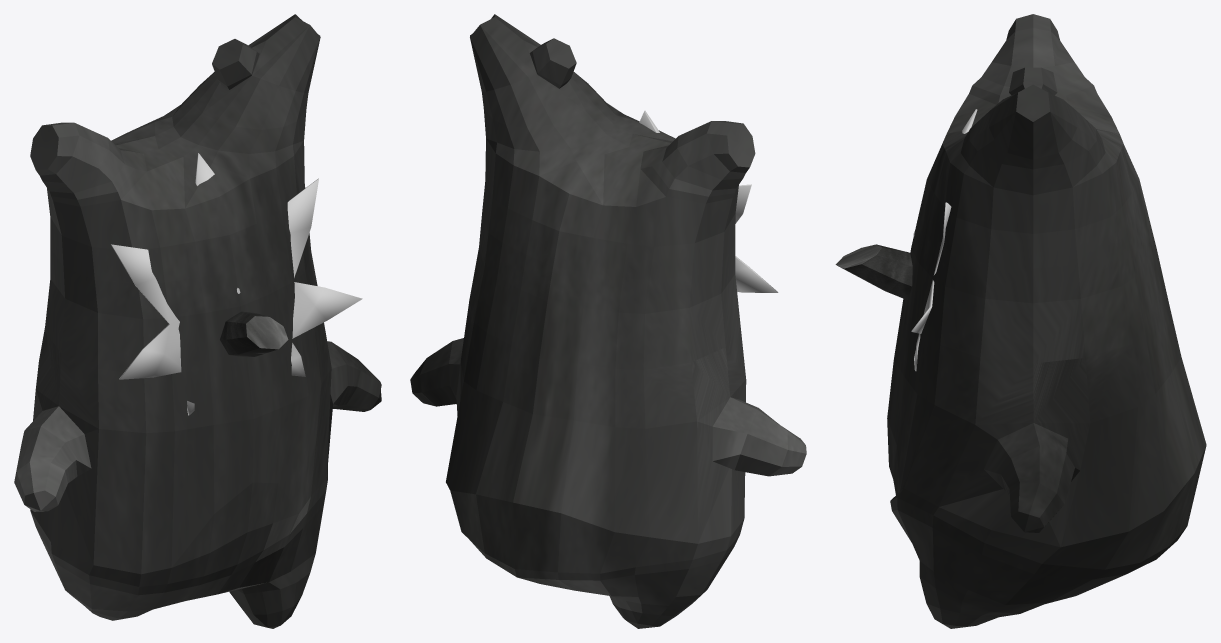
Rendered from frame_0001.obj.
3 views of the same model, side by side, from view 1: azimuth 30°, elevation 25°; view 2: azimuth 150°, elevation 25°; view 3: azimuth 270°, elevation 25° (orthographic). The views are drawn at different scales.
Parts seen in each view (by area): view 1: korok, leaf, nose.003_柱体.011; view 2: korok, leaf; view 3: korok, nose.003_柱体.011, leaf.
Boxes of the visible parts, box(x1,y1,x2,y2) form: korok: box(14, 14, 381, 628); leaf: box(111, 153, 362, 415); nose.003_柱体.011: box(220, 311, 288, 357); korok: box(410, 14, 806, 628); leaf: box(639, 110, 778, 292); korok: box(887, 14, 1206, 628); nose.003_柱体.011: box(835, 244, 912, 299); leaf: box(911, 109, 977, 371).
Size of the model in its own units: 1.62 by 2.34 by 1.37.
